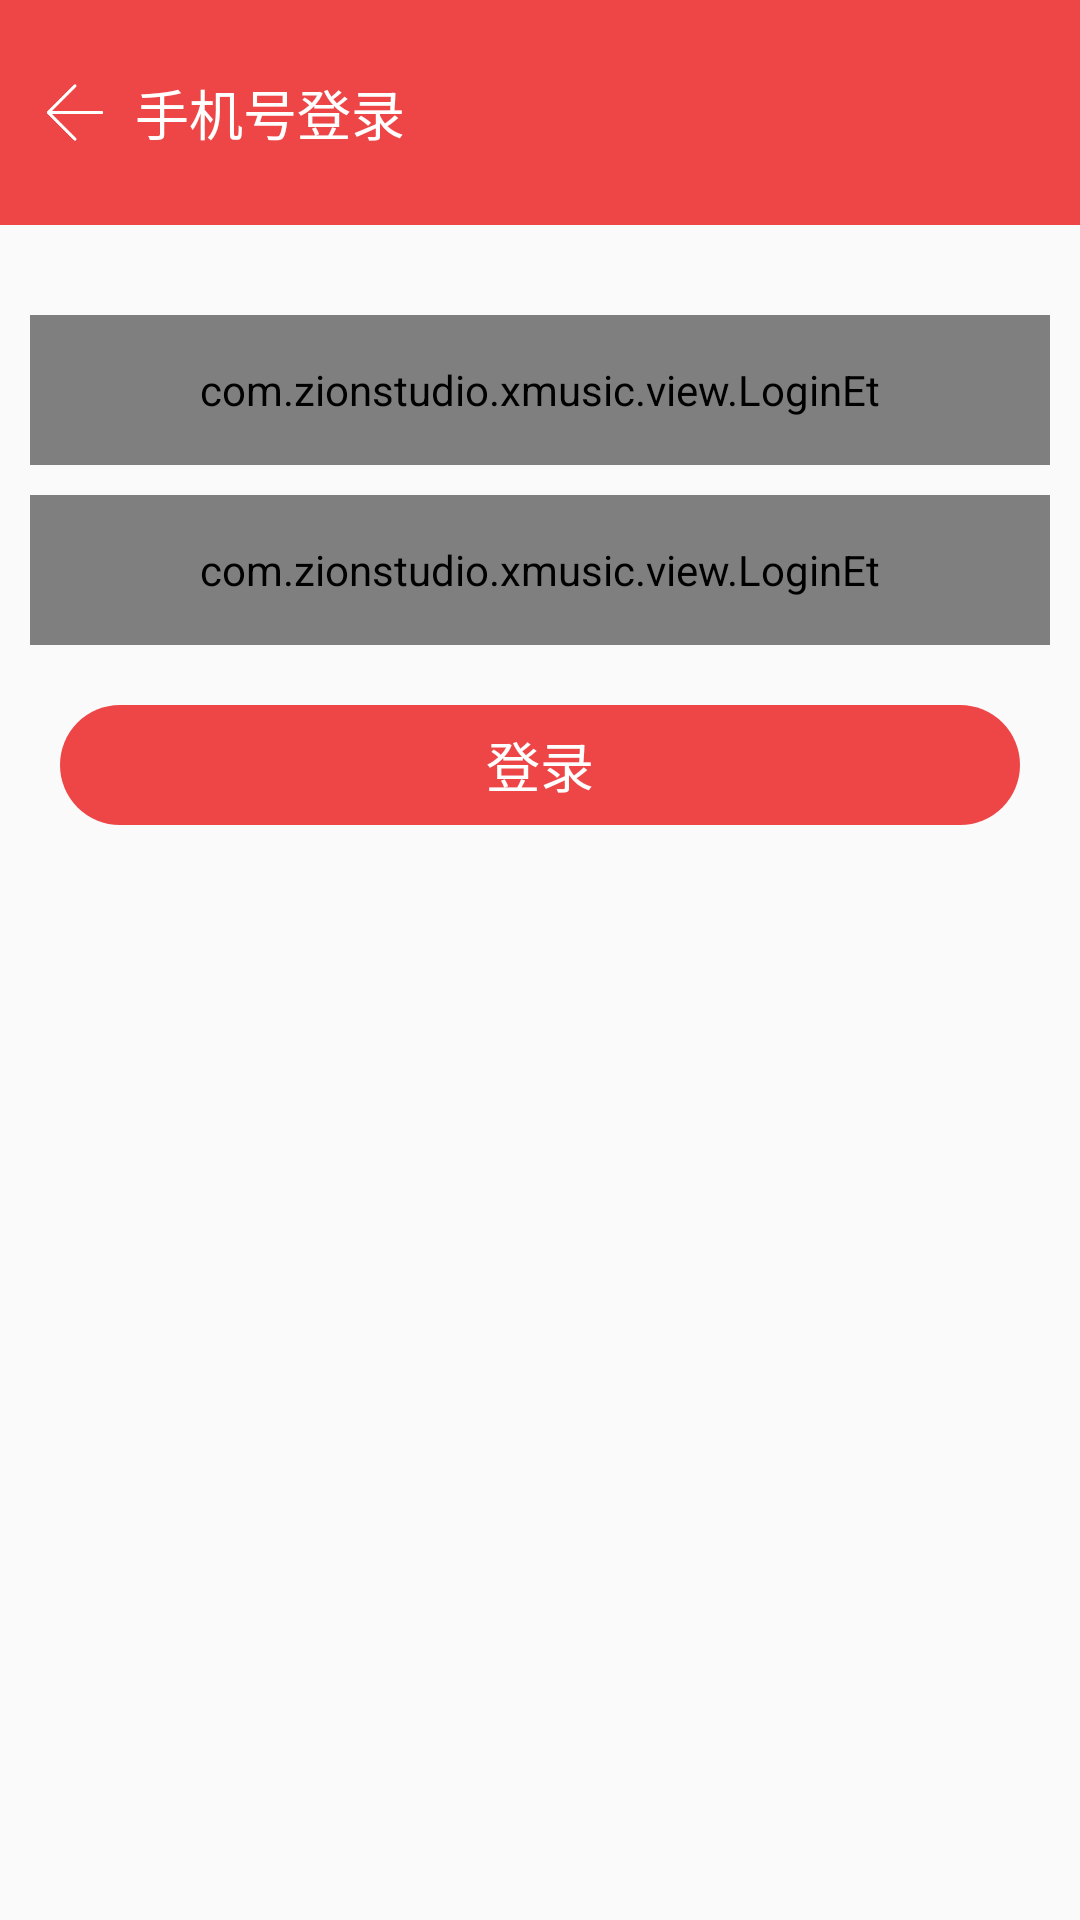

Where to tap for icons on this 1080x1920 app screen, as (x=x, y=y):
back left: (x=75, y=112)
